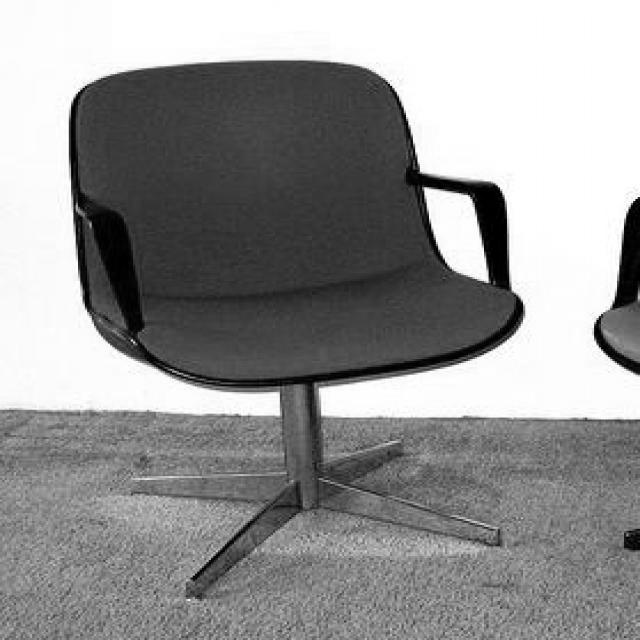chair: (62, 57, 524, 598)
